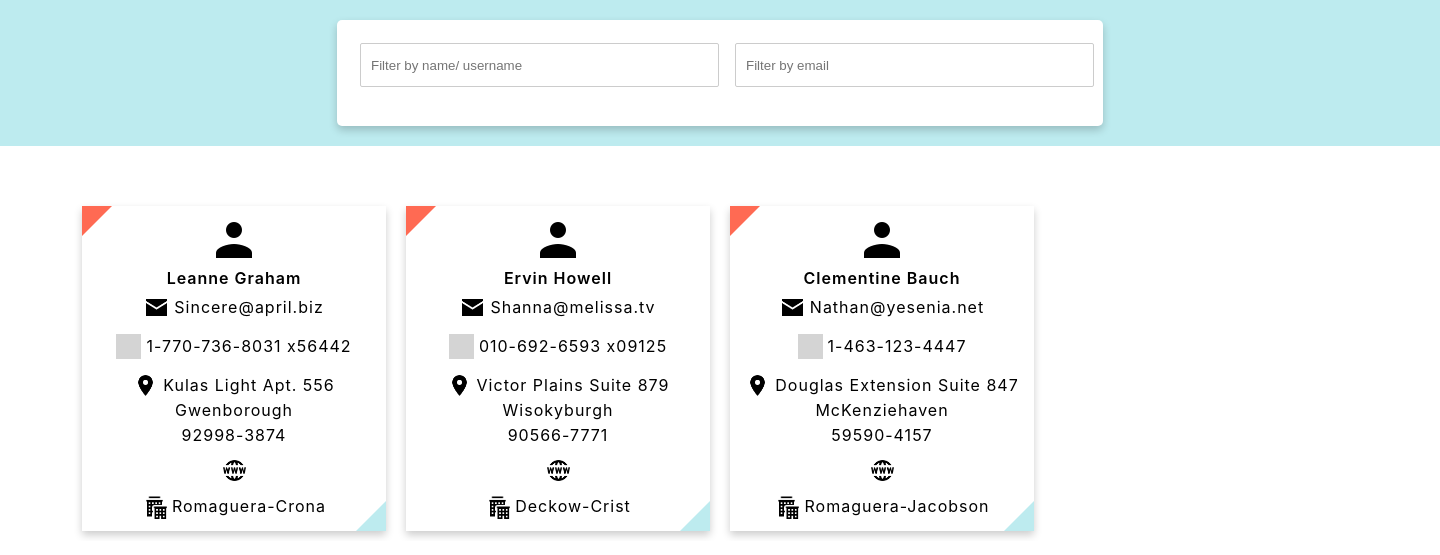
it: Users page › should filter values with name
Type "Leanne Graham" into the field with test id "name-username-filter". click: (540, 65)
box: [360,43,719,87]
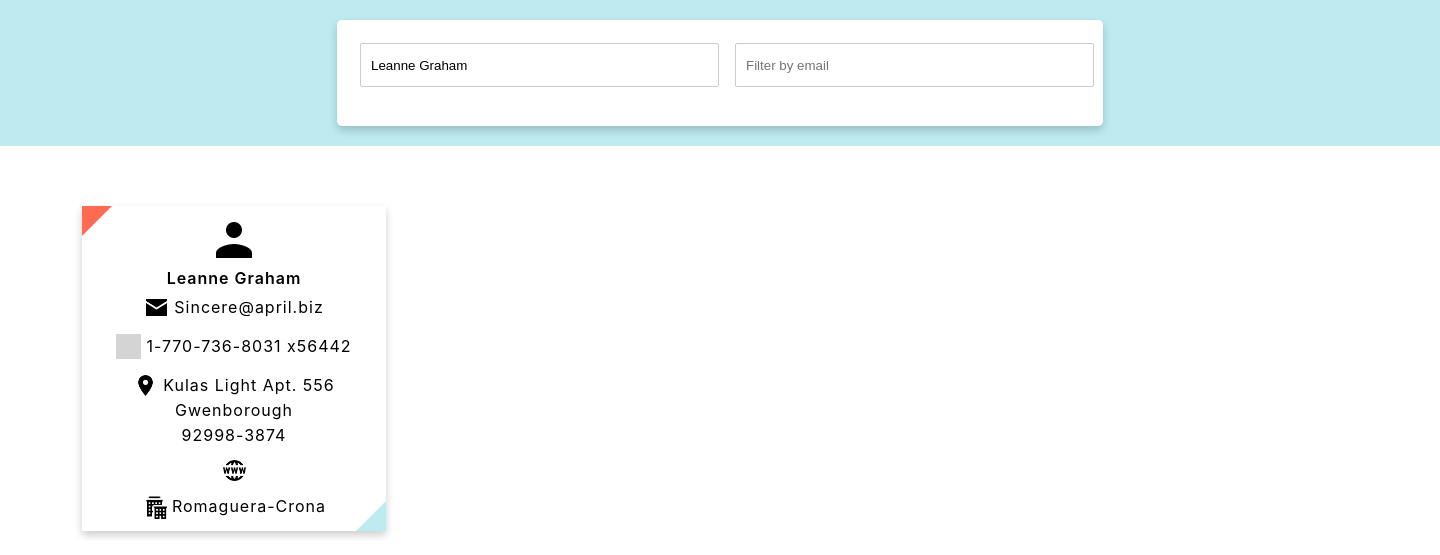
Expected: the element with test id "company1" is shown, [142,494,326,519]
Result: the element with test id "userContent2" is gone
Result: the element with test id "userContent3" is gone
